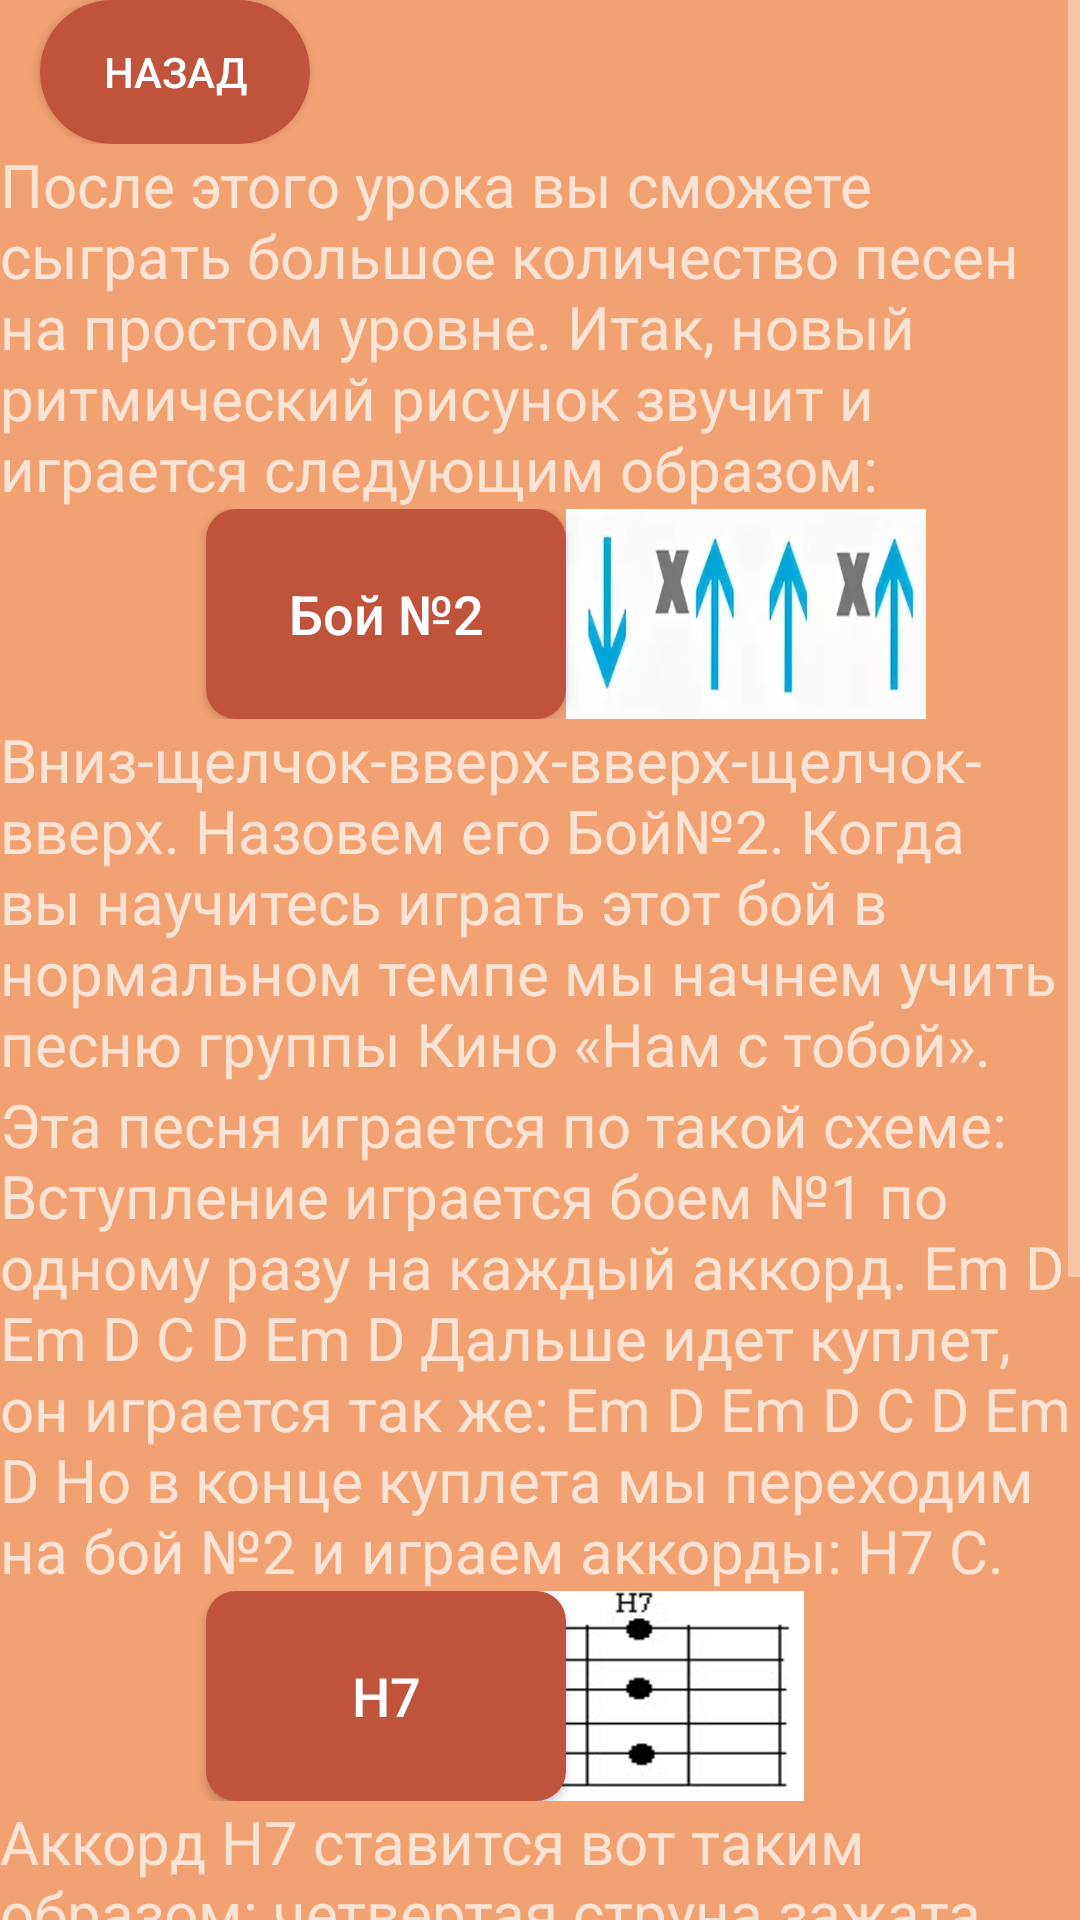

Where to tap for icons on this 1080*1920 app screen, as point (x, y):
seven fingering: point (624, 1696)
